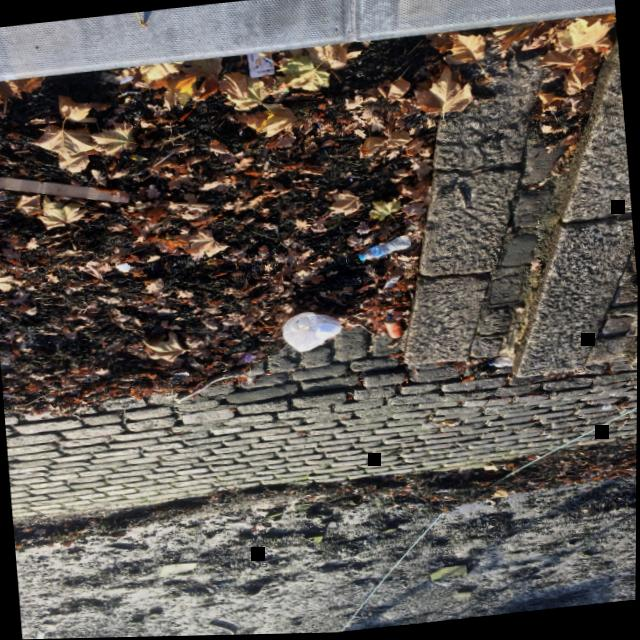Aerosol: (383, 316, 404, 340)
Clear plastic bottle: (359, 237, 411, 262)
Normal paper: (247, 54, 274, 79)
Plastic film: (100, 72, 135, 84)
Single-use carrier bag: (283, 313, 341, 353)
